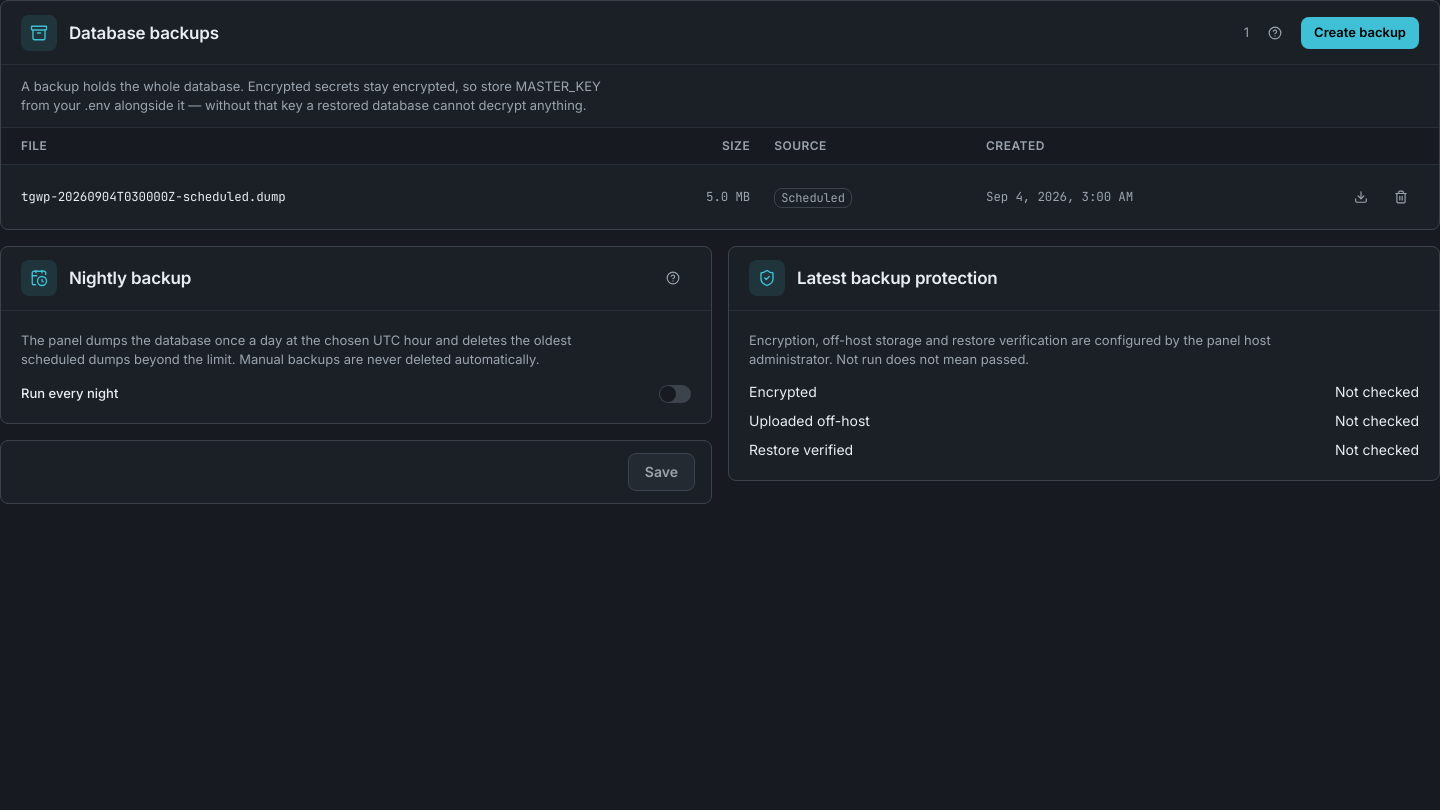
Test: BackupsForm › deletes a backup after the confirmation
Click the button named "Delete".
click(1401, 196)  # box 1383,178 -> 1419,214
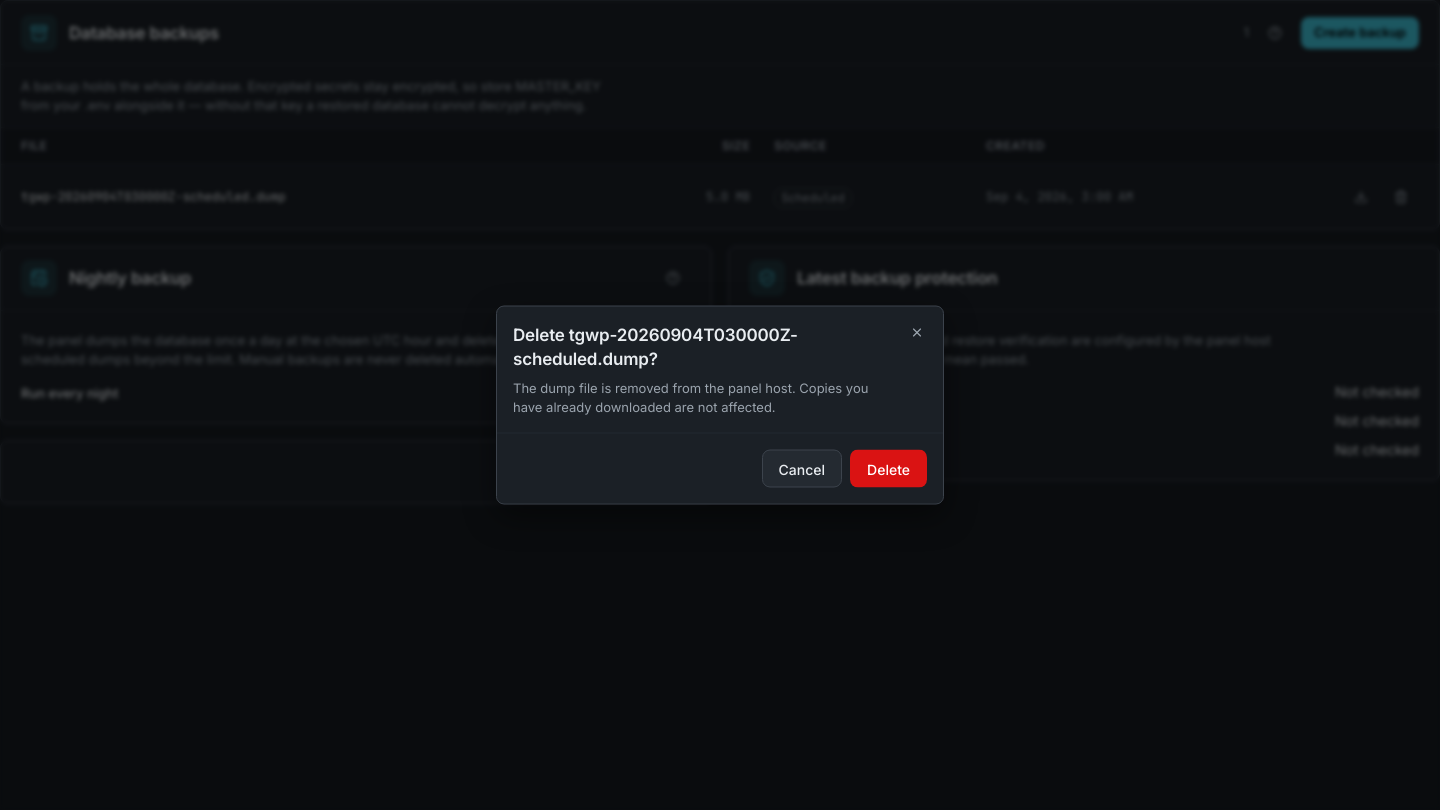
Click the button "Delete".
click(889, 468)  # box 850,450 -> 927,488
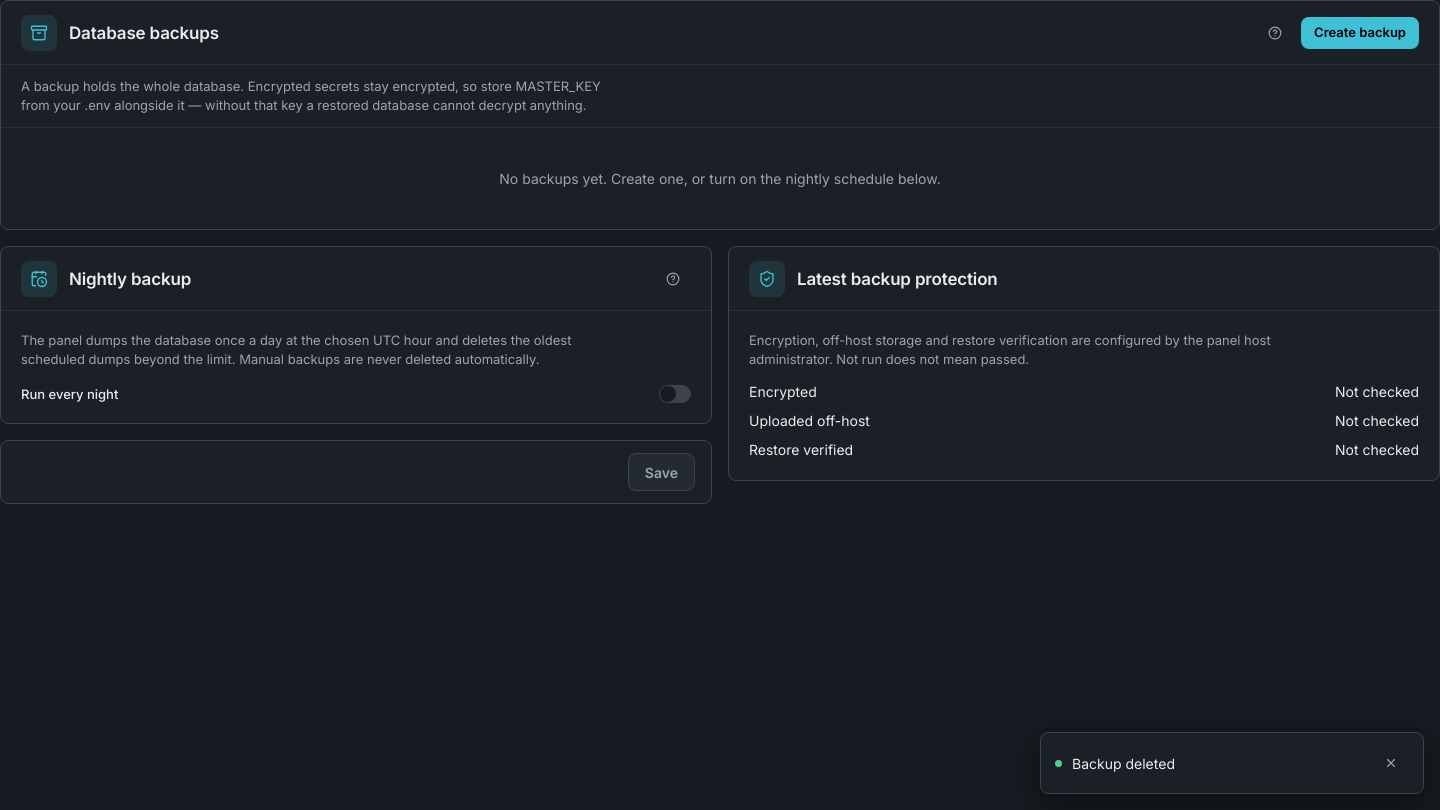
Now the text "No backups yet" is shown, box 499,170 -> 941,187
